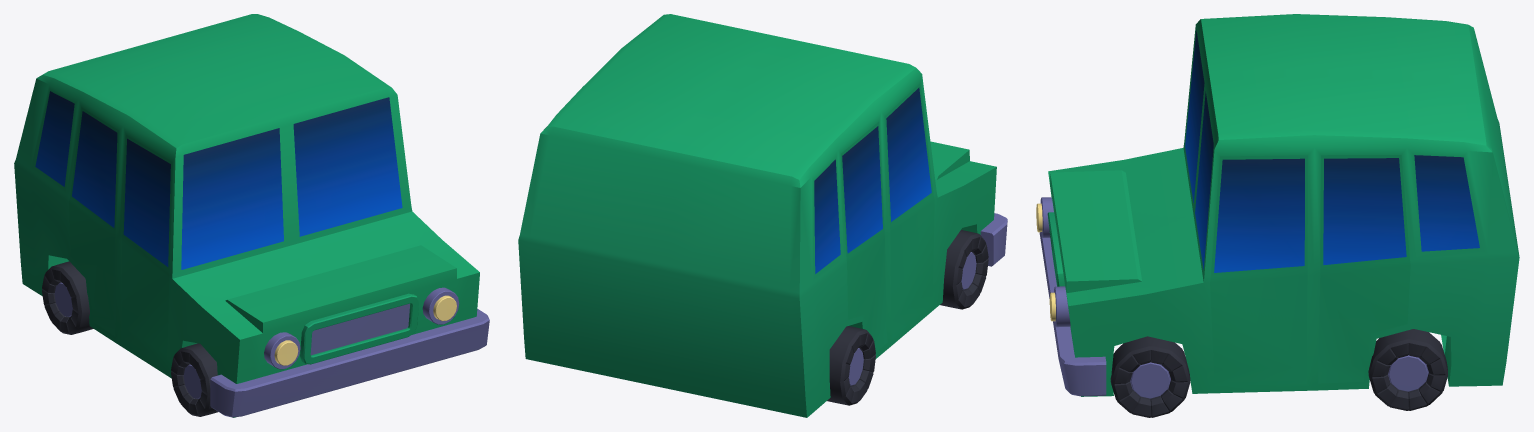
Rendered from military_car.fbx.
3 views of the same model, side by side, from view 1: azimuth 30°, elevation 25°; view 2: azimuth 150°, elevation 25°; view 3: azimuth 270°, elevation 25° (orthographic). The views are drawn at different scales.
Parts seen in each view (by area): view 1: military_car; view 2: military_car; view 3: military_car.
Boxes of the visible parts, x1,y1,x2,y2 form: military_car: (14,14,489,417); military_car: (518,14,1007,417); military_car: (1036,14,1519,417).
Size of the model in its own units: 2.26 by 1.82 by 2.95.
